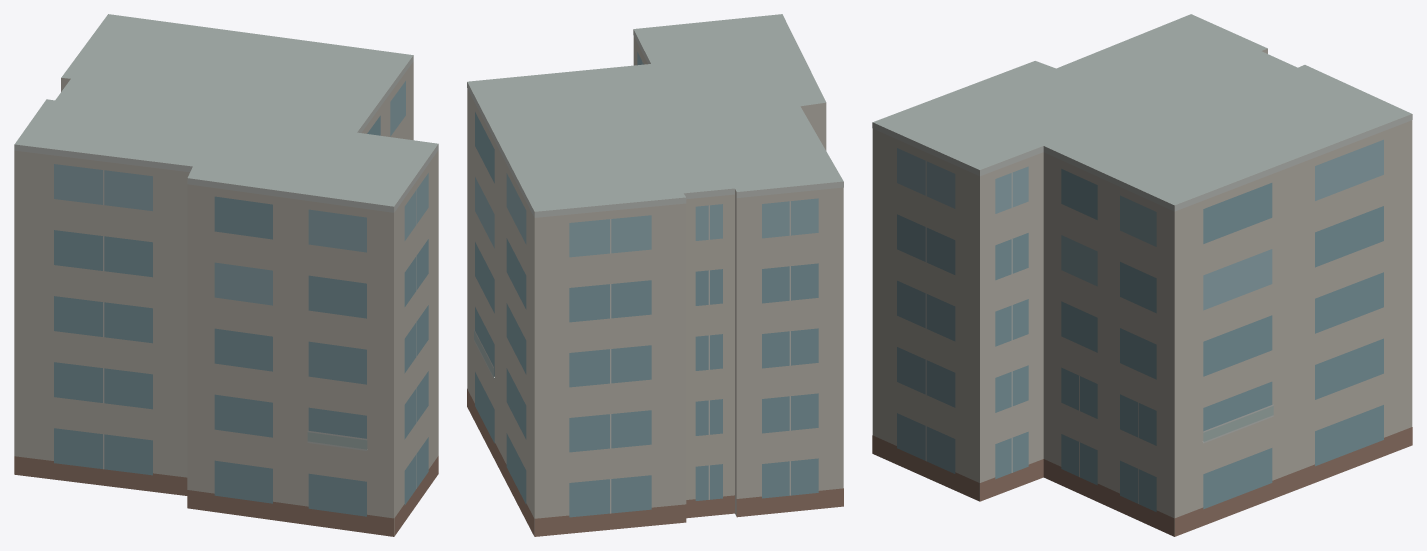
The model's file is survey-upis-32646485.glb.
3 views of the same model, side by side, from view 1: azimuth 30°, elevation 25°; view 2: azimuth 150°, elevation 25°; view 3: azimuth 270°, elevation 25° (orthographic).
Parts seen in each view (by area): view 1: survey-upis-32646485.tmp; view 2: survey-upis-32646485.tmp; view 3: survey-upis-32646485.tmp.
Part boxes in pixels (x1,y1,x2,y2): survey-upis-32646485.tmp: (14, 14, 438, 536); survey-upis-32646485.tmp: (467, 14, 843, 536); survey-upis-32646485.tmp: (872, 14, 1412, 536).
Bounding box in the file's own units: 16.19 × 13.06 × 19.29.
